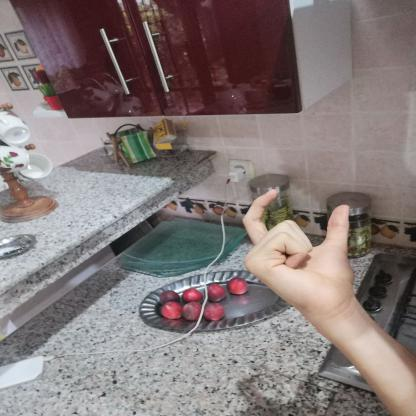NOON: (226, 181, 372, 322)
